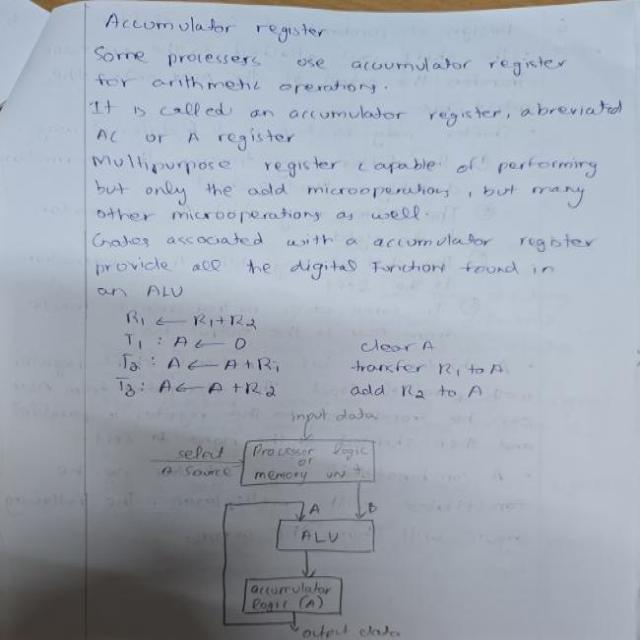Figure Detection - v3 Dataset Version2: (142, 397, 417, 640)
